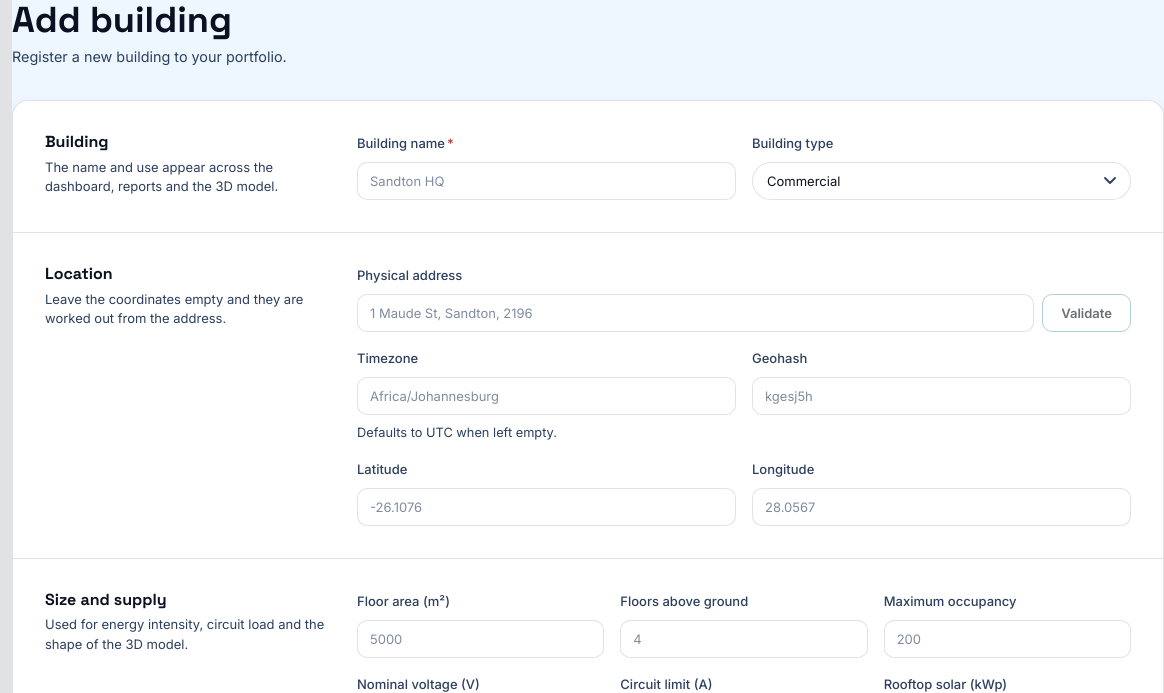
Test case: AddBuildingPage › Initial render › Validation › shows error when floor area is negative
Type "building A" into the field with id "building_name" at (546, 181), box [357,162,736,200]
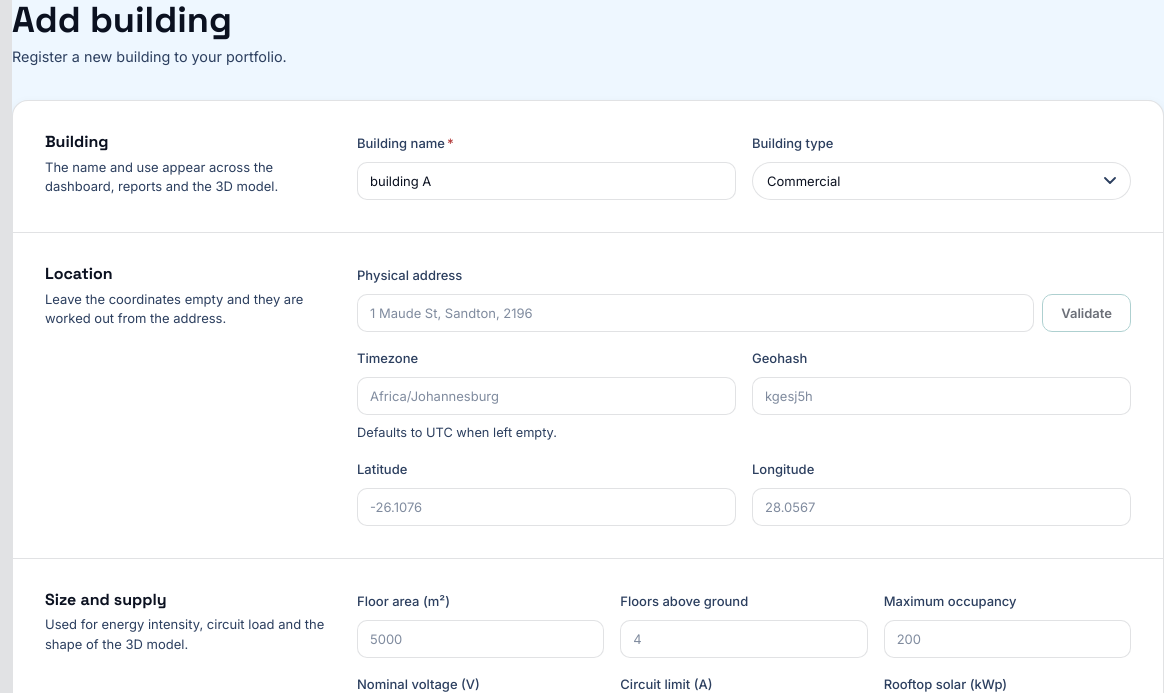
Type "-100" into the number field with id "square_footage" at (481, 639), box [357,620,604,658]
(page scrolled)
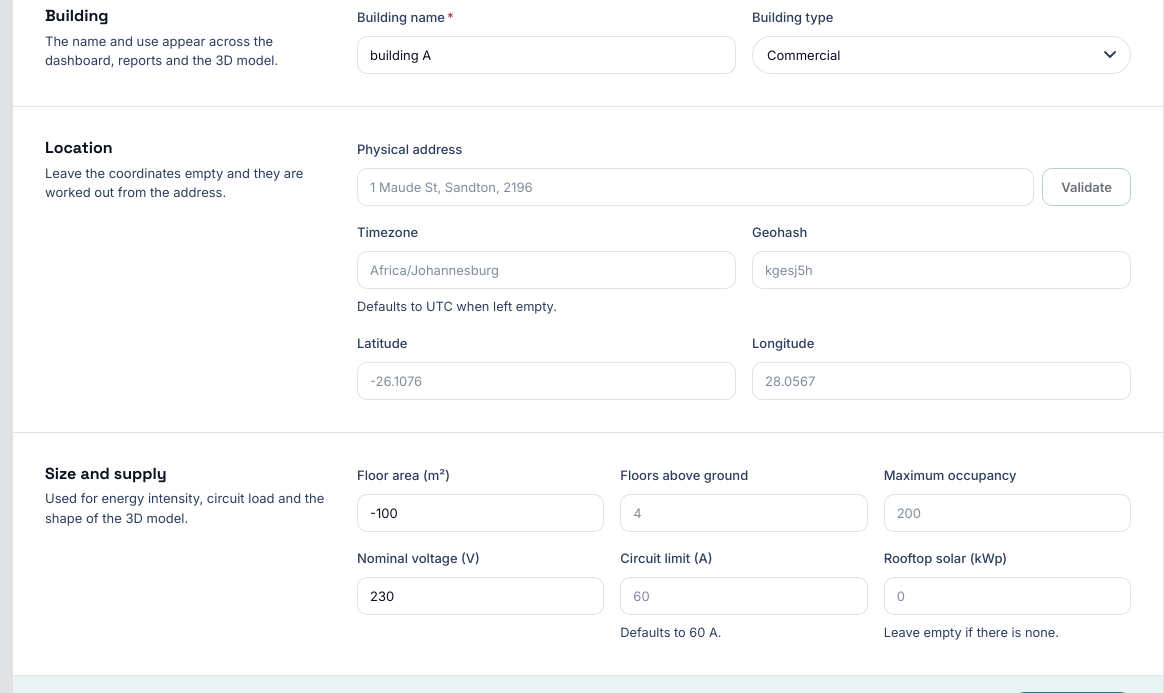
Submit the form
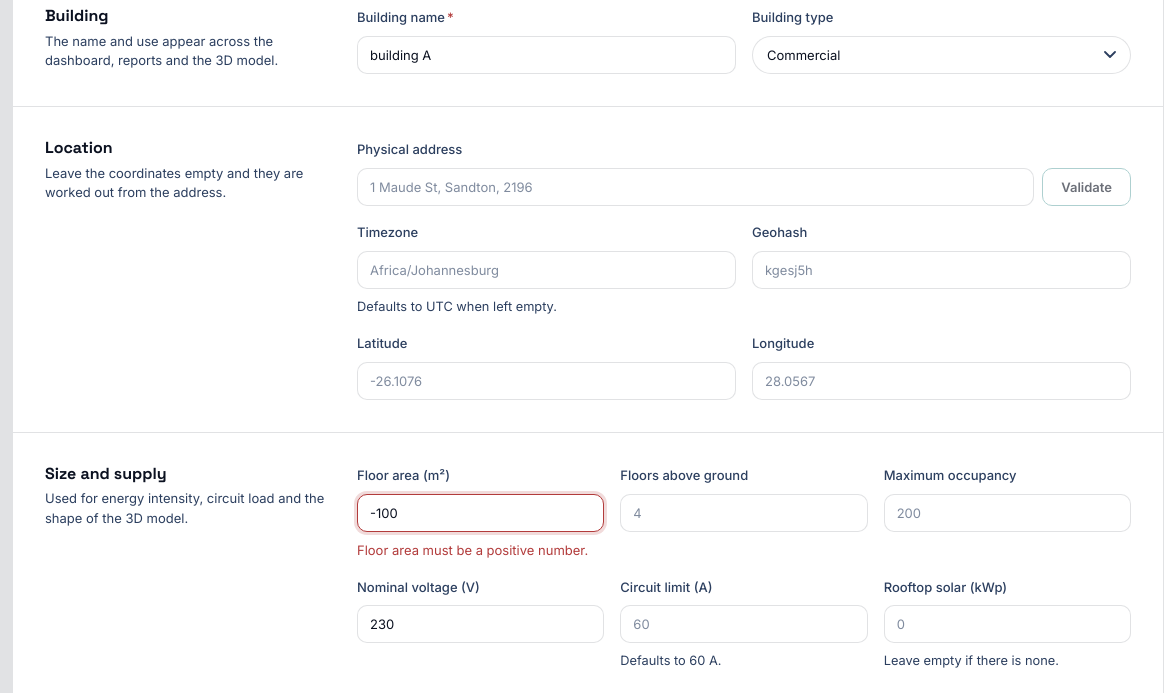
Expected: the text "Floor area must be a positive number." is shown, [357,540,604,561]
